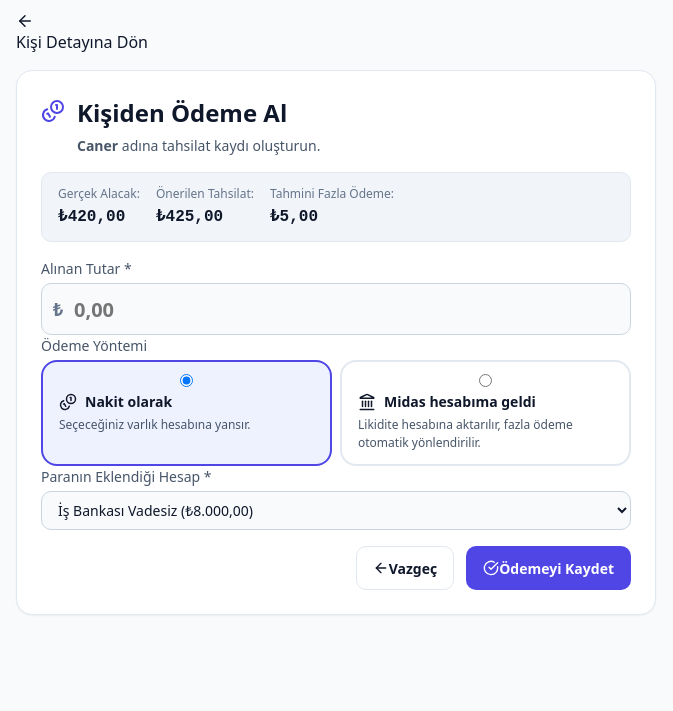
Test case: F6 Settlements — Root Orchestrator, Waterfall, Cash vs Midas & Payable Overpayment Guard › executes root settlement with atomic single endpoint, rendering exact backend waterfall routing
Switch to Midas receipt
Click the radio button with test id "method-midas-radio": click(486, 380) [358,374,613,387]
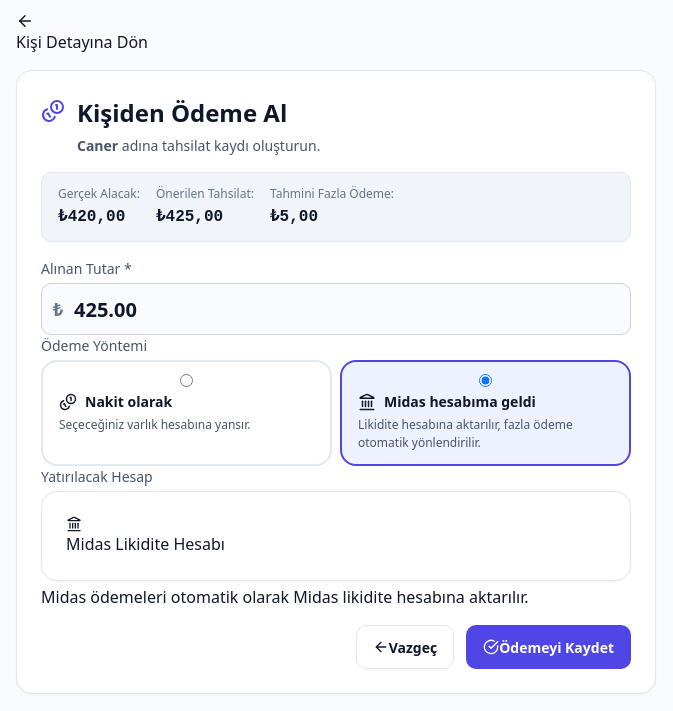
Enter amount 500.00
Replace the text in the field with test id "money-input" with "500.00": (336, 309) [41,283,631,335]
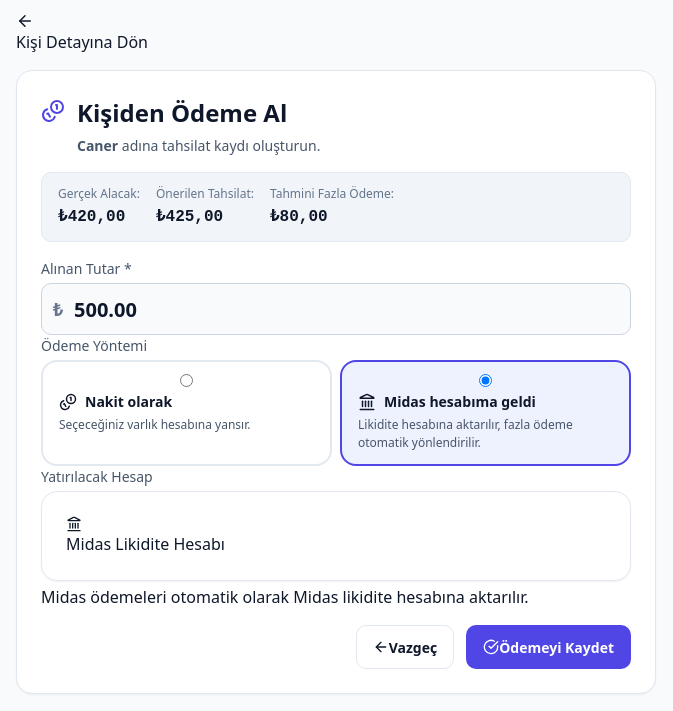
Click the button with test id "settle-submit-btn": click(549, 647) [466,625,631,669]
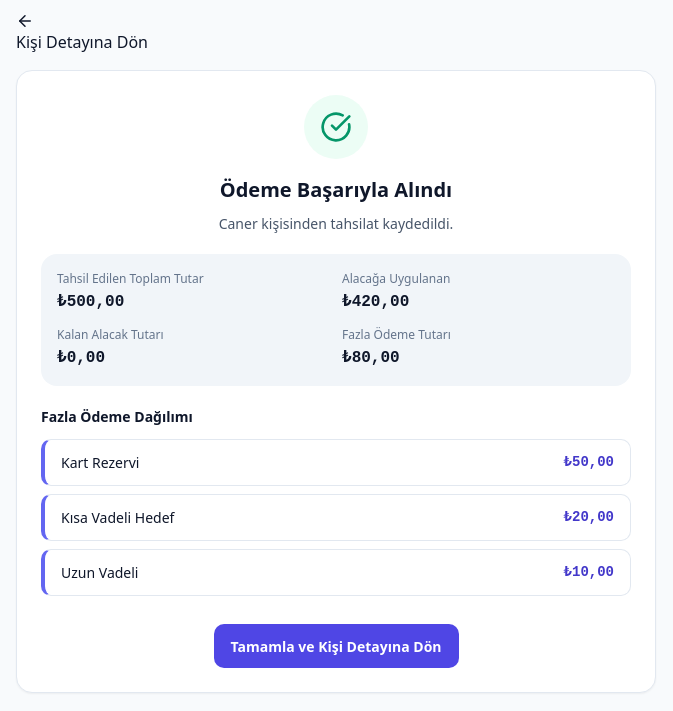
Result: the text with test id "result-excess" reads "₺80,00" at [342,349,400,367]
Result: the element with test id "settle-receivables-success-view" is shown
Result: the text with test id "result-cash-received" reads "₺500,00" at [57,293,124,311]
